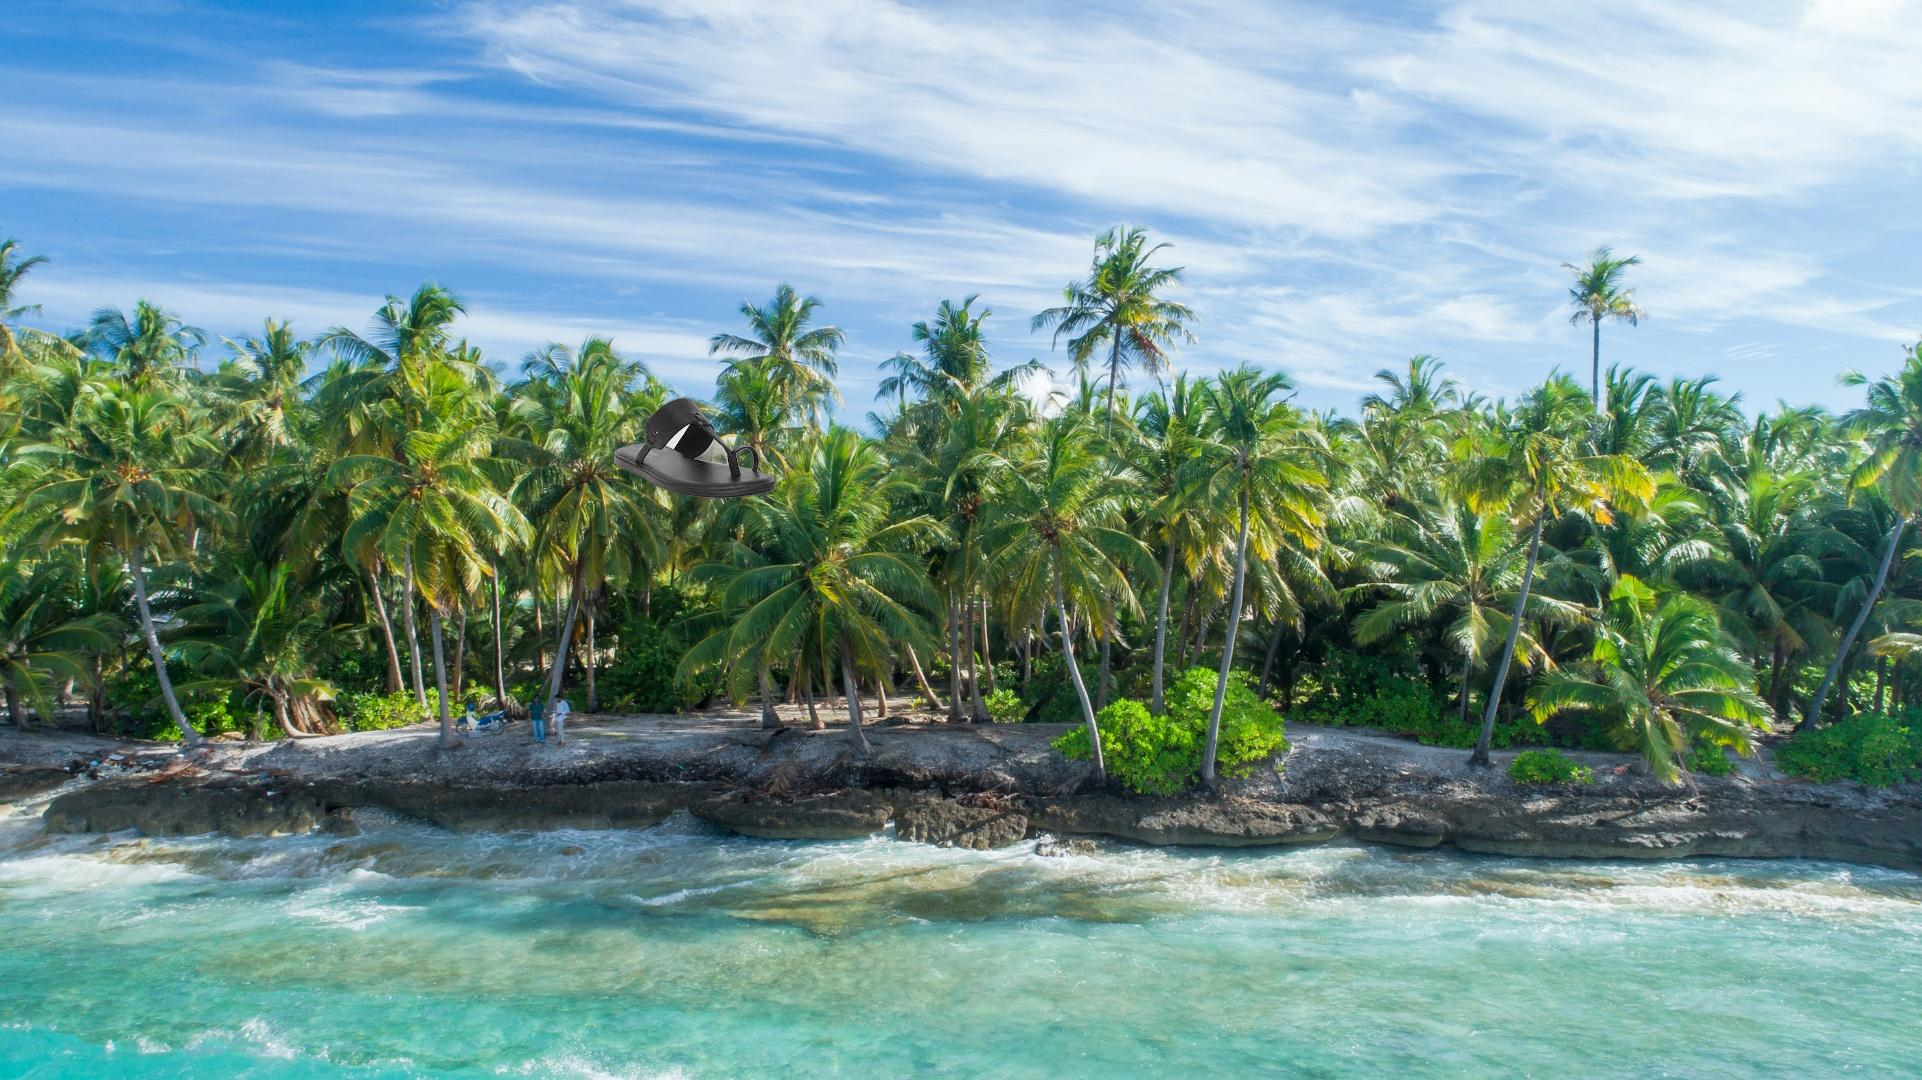shoes: (611, 395, 779, 500)
